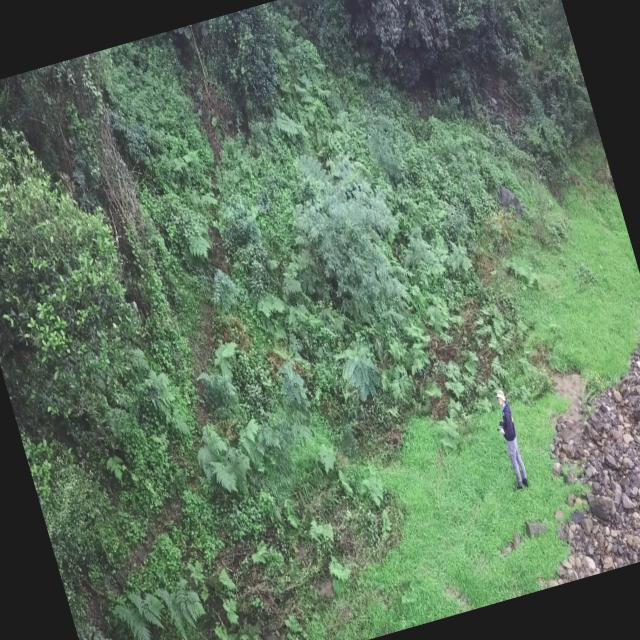Mysore-Thorn-Weed: (328, 329, 385, 406), (268, 337, 310, 406)
